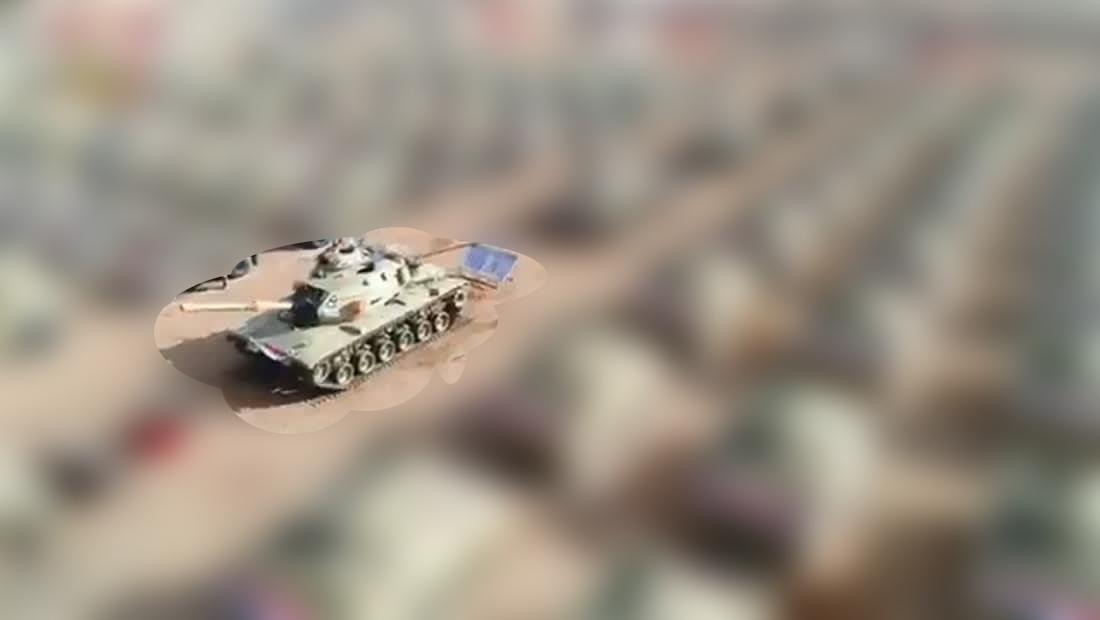tank: (178, 241, 469, 400)
